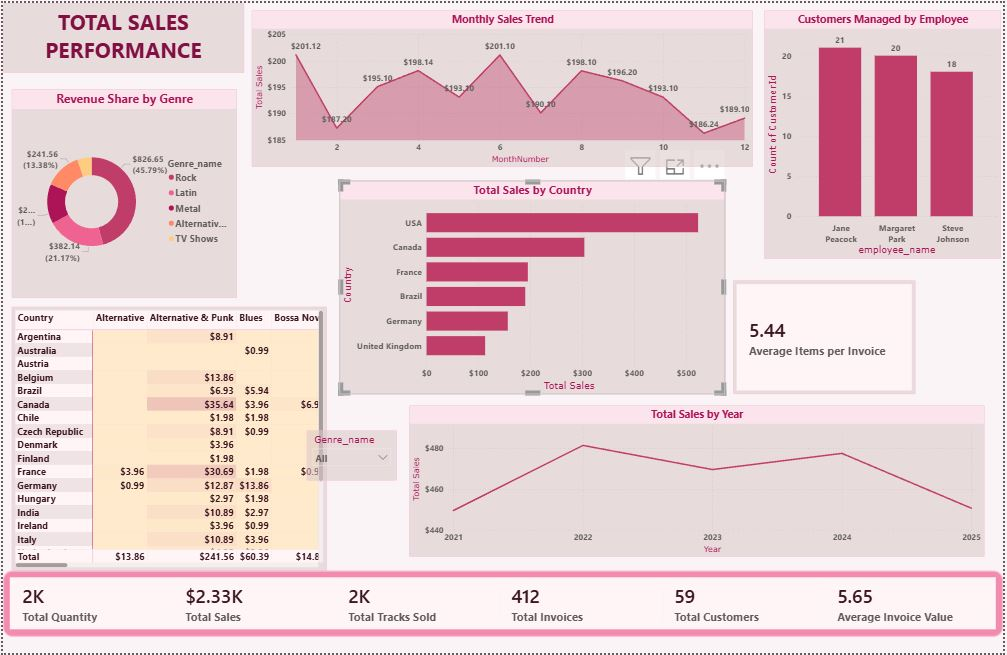

The page's visual inventory and layout, read from the dashboard file:
{"tool":"powerbi","page":{"name":"Page 1","canvas":[2000,1300],"ordinal":0},"visuals":[{"type":"barChart","fields":{"Y":["_measures.Total Sales"],"Category":["dim_customer.Country"]},"box":[672.5,355,772.5,427.5],"z":0},{"type":"textbox","box":[0,0,482.5,140],"z":1000},{"type":"cardVisual","fields":{"Data":["_measures.Total Quantity","_measures.Total Sales","_measures.Total Tracks Sold","_measures.Total Invoices","_measures.Total Customers","_measures.Average Invoice Value"]},"box":[0,1135,2000,132.5],"z":2000},{"type":"donutChart","title":"Revenue Share by Genre","fields":{"Category":["dim_track.Genre_name"],"Y":["_measures.Total Sales"]},"box":[17.5,172.5,450,417.5],"z":3000},{"type":"lineChart","fields":{"Y":["_measures.Total Sales"],"Category":["dim_date.Year"]},"box":[812.5,805,1150,302.5],"z":4000},{"type":"pivotTable","fields":{"Rows":["dim_customer.Country"],"Columns":["dim_track.Genre_name"],"Values":["_measures.Total Sales"]},"box":[17.1,607.1,630,528.6],"z":5000},{"type":"slicer","fields":{"Values":["dim_track.Genre_name"]},"box":[607.5,855,180,100],"z":6000},{"type":"areaChart","title":"Monthly Sales Trend","fields":{"Category":["dim_date.MonthNumber"],"Y":["_measures.Total Sales"]},"box":[497.5,15,1002.5,312.5],"z":7000},{"type":"cardVisual","fields":{"Data":["_measures.Average Items per Invoice"]},"box":[1460,555,365,227.5],"z":8000},{"type":"columnChart","title":"Customers Managed by Employee","fields":{"Category":["dim_employee.employee_name"],"Y":["Count(dim_customer.CustomerId)"]},"box":[1521.7,15,473.3,496.7],"z":9000}]}

Visuals, with their boxes in screenshot pixels (x1, y1, x2, y2), scaled from the page's 2000x1300 canvas onto the 1007x655 screenshot:
barChart - _measures.Total Sales x dim_customer.Country: [339,179,728,394]
textbox: [0,0,243,71]
cardVisual - _measures.Total Quantity x _measures.Total Sales: [0,572,1006,639]
"Revenue Share by Genre" donutChart: [9,87,235,297]
lineChart - _measures.Total Sales x dim_date.Year: [409,406,988,558]
pivotTable - dim_customer.Country x dim_track.Genre_name: [9,306,326,572]
slicer - dim_track.Genre_name: [306,431,397,481]
"Monthly Sales Trend" areaChart: [250,8,755,165]
cardVisual - _measures.Average Items per Invoice: [735,280,919,394]
"Customers Managed by Employee" columnChart: [766,8,1004,258]
